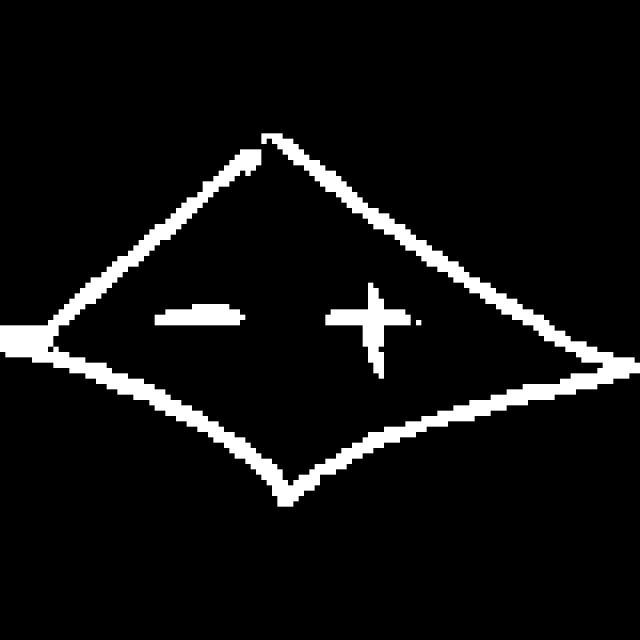dependant_voltage: (39, 129, 635, 513)
